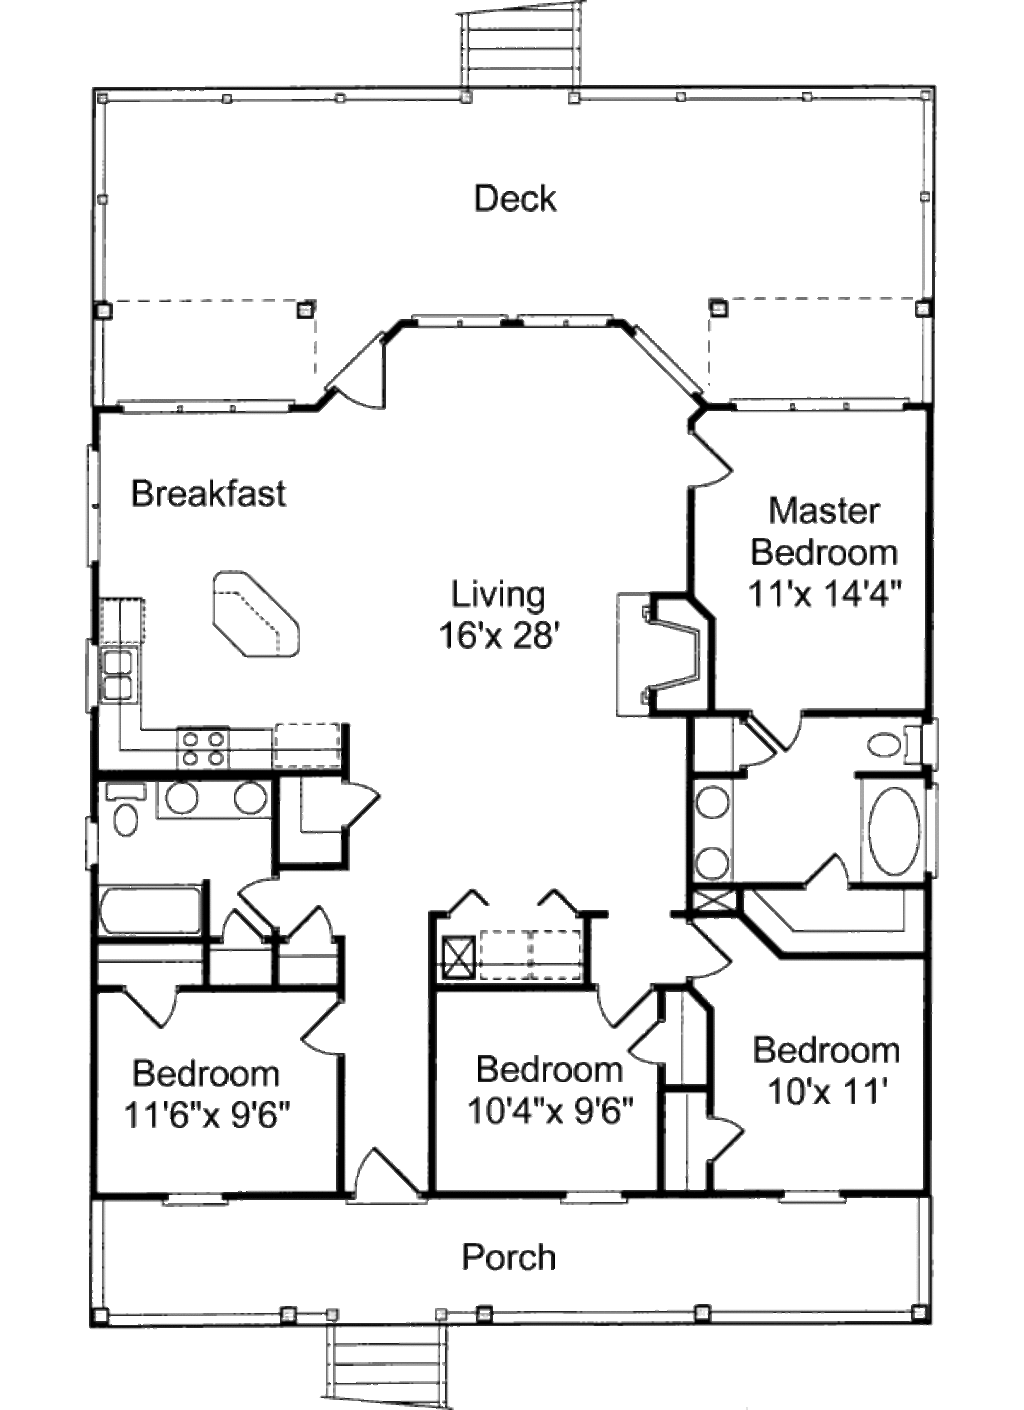door: (330, 331, 396, 413), (345, 1142, 418, 1203), (682, 913, 739, 991), (288, 999, 347, 1066), (681, 430, 744, 493), (115, 979, 180, 1030), (706, 1103, 747, 1172), (594, 985, 654, 1028), (799, 848, 851, 898), (274, 908, 335, 948), (344, 779, 386, 830)
large_sink: (865, 719, 929, 773)
small_sink: (691, 778, 733, 878)
stairs: (453, 3, 594, 99), (321, 1313, 462, 1405)
tub: (866, 773, 924, 891), (100, 885, 202, 937)
twin_sink: (96, 643, 136, 706)
windows: (77, 444, 114, 569), (718, 394, 914, 416), (400, 313, 608, 330), (774, 1178, 856, 1215), (553, 1179, 635, 1212), (162, 1184, 238, 1216)
